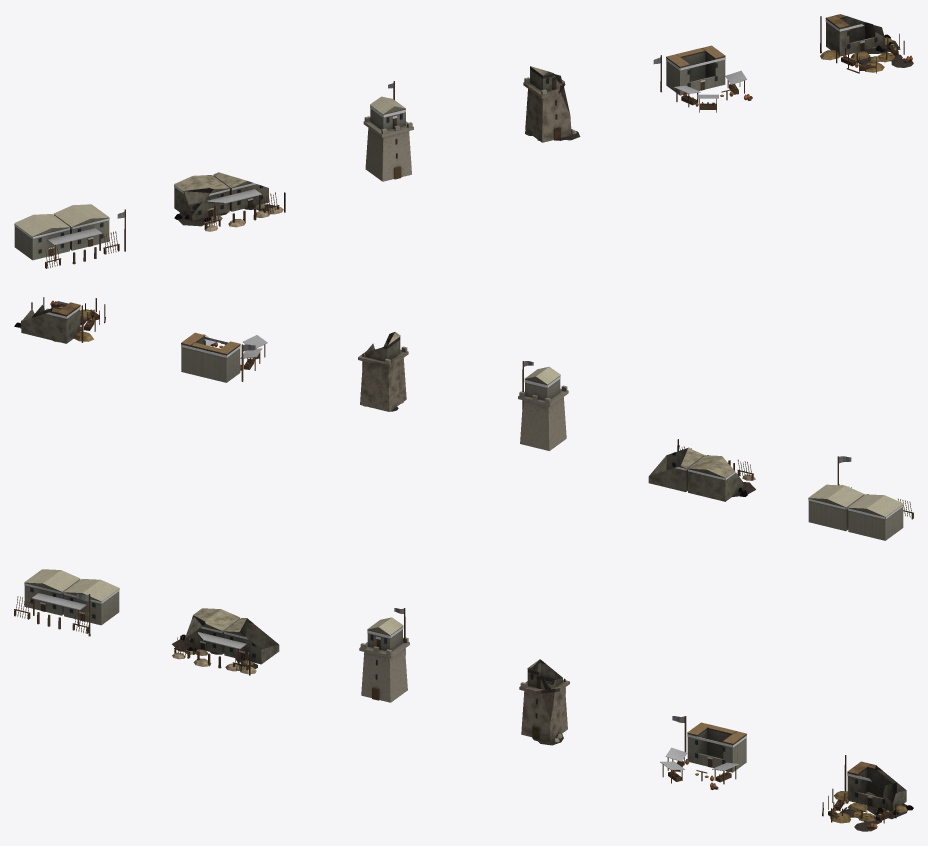
The model's file is rts-classical-americas.glb.
3 views of the same model, one above another, from view 1: azimuth 30°, elevation 25°; view 2: azimuth 150°, elevation 25°; view 3: azimuth 330°, elevation 25° (orthographic).
Parts seen in each view (by area): view 1: LOD0, LOD0.001, LOD0.005, LOD0.002, LOD0.004, LOD0.003; view 2: LOD0, LOD0.001, LOD0.002, LOD0.004, LOD0.003, LOD0.005; view 3: LOD0.001, LOD0, LOD0.005, LOD0.004, LOD0.002, LOD0.003.
Part boxes in pixels (left/top/right/bottom): LOD0: left=14, top=204, right=125, bottom=268; LOD0.001: left=174, top=172, right=285, bottom=231; LOD0.005: left=820, top=14, right=913, bottom=73; LOD0.002: left=363, top=81, right=413, bottom=181; LOD0.004: left=653, top=45, right=752, bottom=112; LOD0.003: left=523, top=66, right=580, bottom=142; LOD0: left=808, top=456, right=913, bottom=540; LOD0.001: left=648, top=439, right=755, bottom=501; LOD0.002: left=518, top=361, right=568, bottom=450; LOD0.004: left=181, top=332, right=267, bottom=382; LOD0.003: left=358, top=332, right=408, bottom=411; LOD0.005: left=14, top=297, right=105, bottom=343; LOD0.001: left=172, top=608, right=279, bottom=675; LOD0: left=14, top=569, right=119, bottom=636; LOD0.005: left=822, top=755, right=913, bottom=831; LOD0.004: left=660, top=716, right=746, bottom=789; LOD0.002: left=359, top=608, right=409, bottom=702; LOD0.003: left=519, top=659, right=569, bottom=745.
Size of what is drawn, in the model's own units: 16.4 by 1.49 by 1.37.
Materials: 2 (2 with a texture image).
